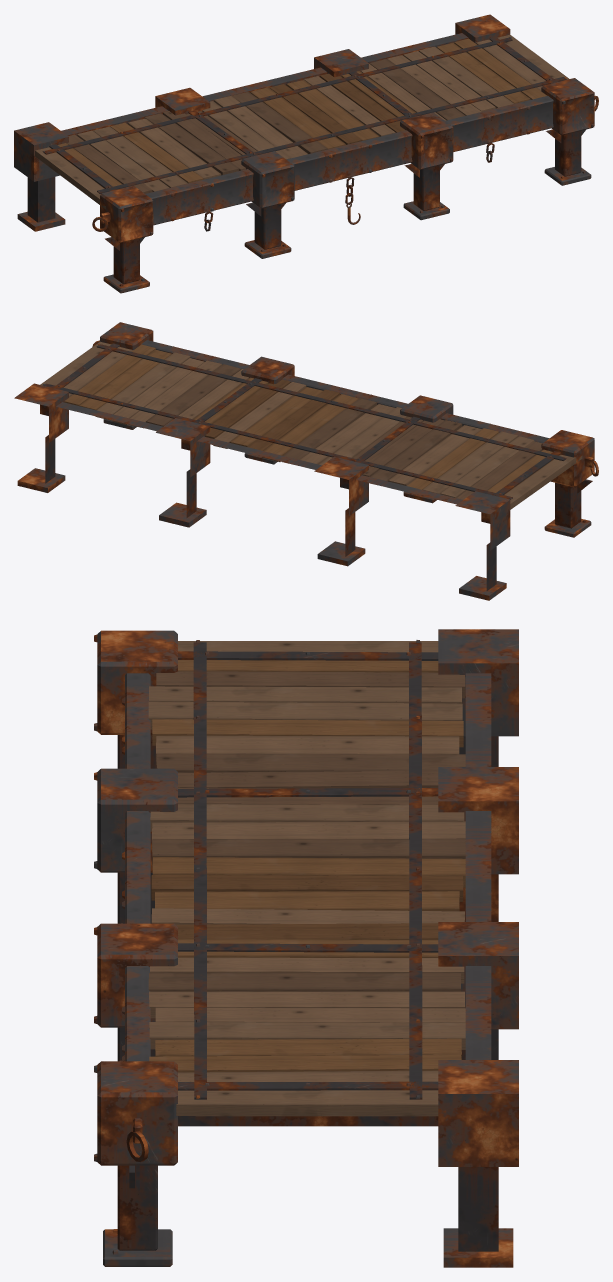
Rendered from Platform_L.glb.
3 views of the same model, one above another, from view 1: azimuth 30°, elevation 25°; view 2: azimuth 150°, elevation 25°; view 3: azimuth 270°, elevation 25° (orthographic). The views are drawn at different scales.
Visible parts, largest first — view 1: Platform_L; view 2: Platform_L; view 3: Platform_L.
Boxes of the visible parts, box(x1,y1,x2,y2) form: Platform_L: box(14, 14, 598, 293); Platform_L: box(14, 322, 598, 600); Platform_L: box(94, 629, 518, 1267).
Size of the model in its own units: 6.39 by 1.06 by 2.32.
4 materials, 4 textured.
